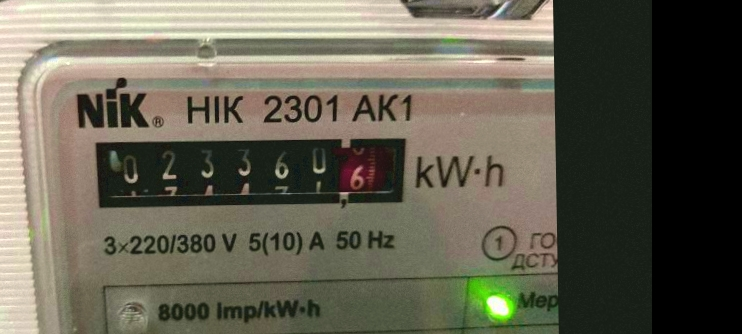0: (119, 151, 140, 184), (310, 143, 327, 175)
2: (157, 147, 180, 181)
3: (195, 146, 216, 179), (234, 145, 253, 176)
6: (270, 147, 290, 179), (345, 161, 367, 190)
screen: (76, 119, 420, 223)
